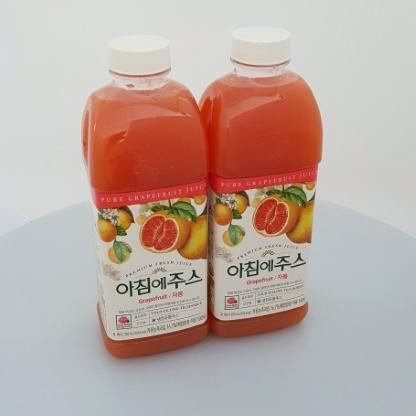-----------950ML: (81, 34, 208, 359), (197, 25, 322, 337)
